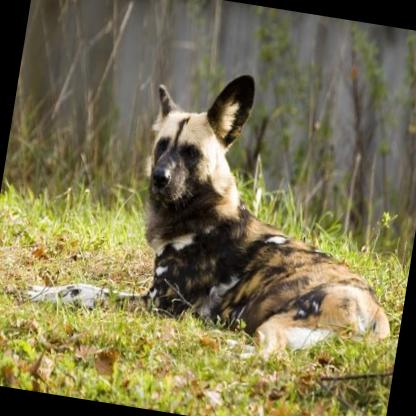African_hunting_dog: (18, 41, 416, 379)
